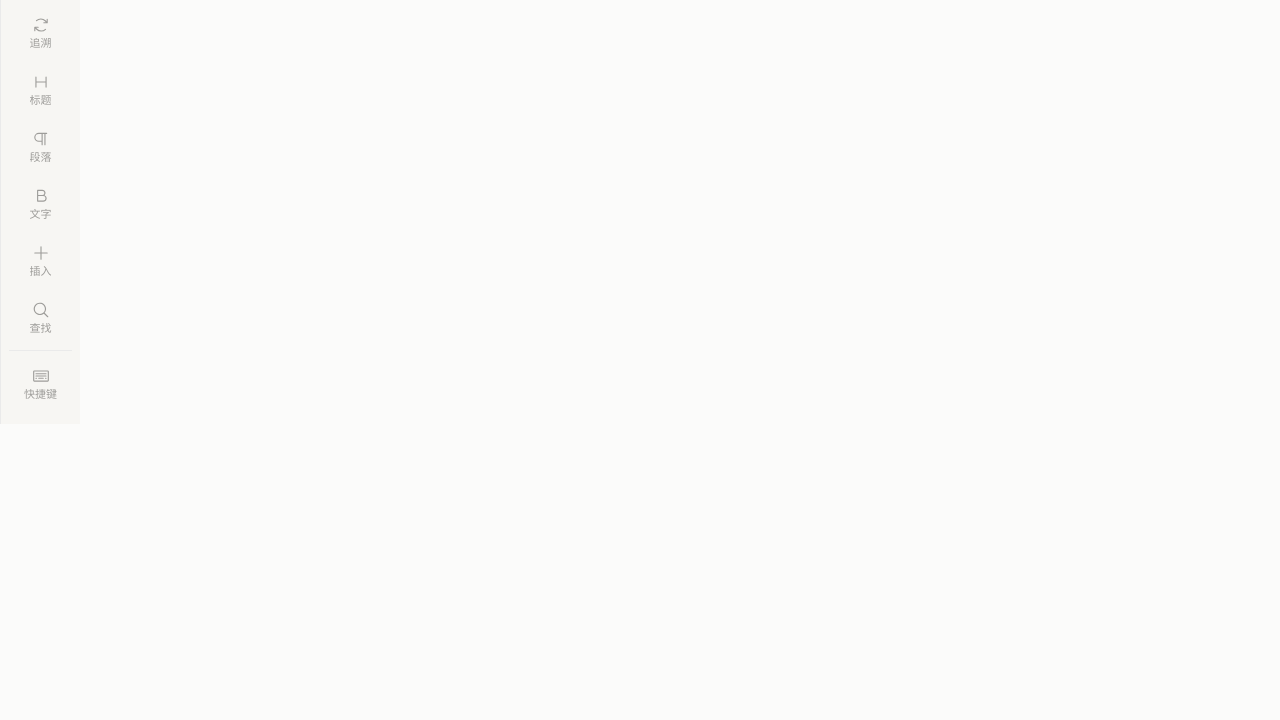
Test: MarkdownCategoryToolbar › opens a shortcuts drawer from the bottom keyboard item
Step 1. Click the button "快捷键" → (40, 384), box [9,359,72,408]
(page scrolled)
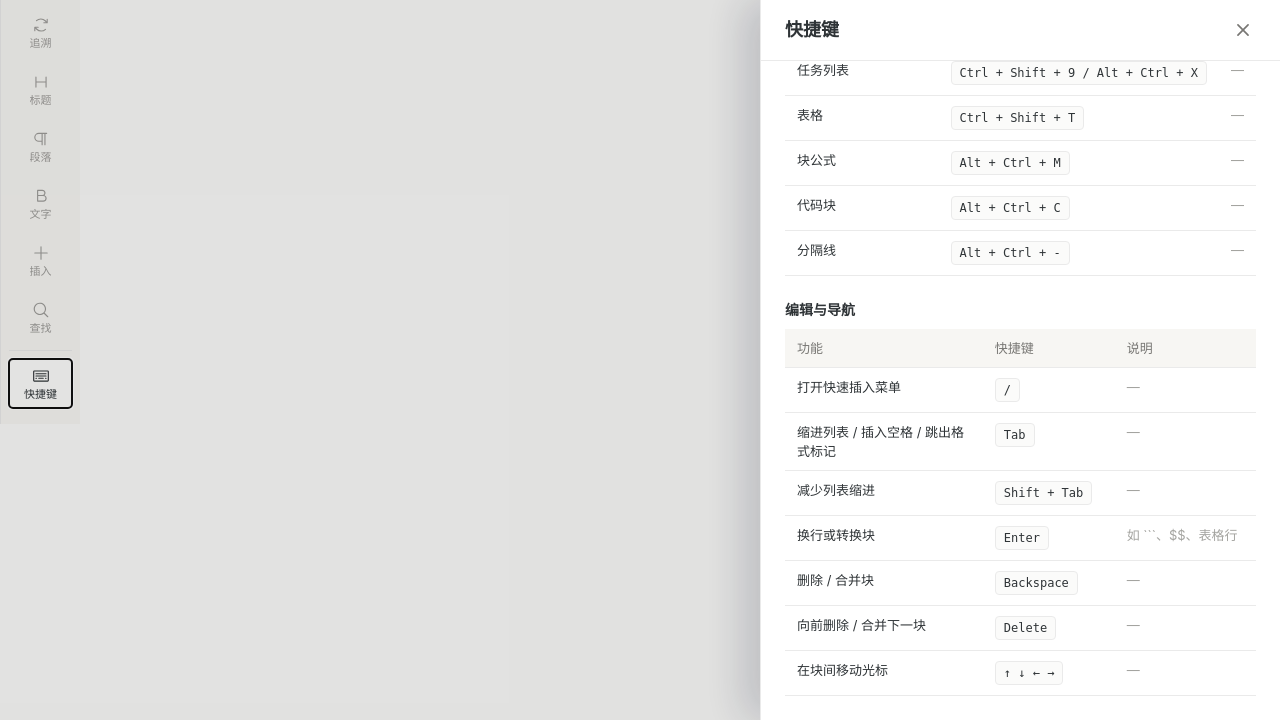
Check: the dialog "快捷键" is shown, box [760,0,1279,719]
Check: the text "打开快速插入菜单" is shown, box [785,368,983,413]
